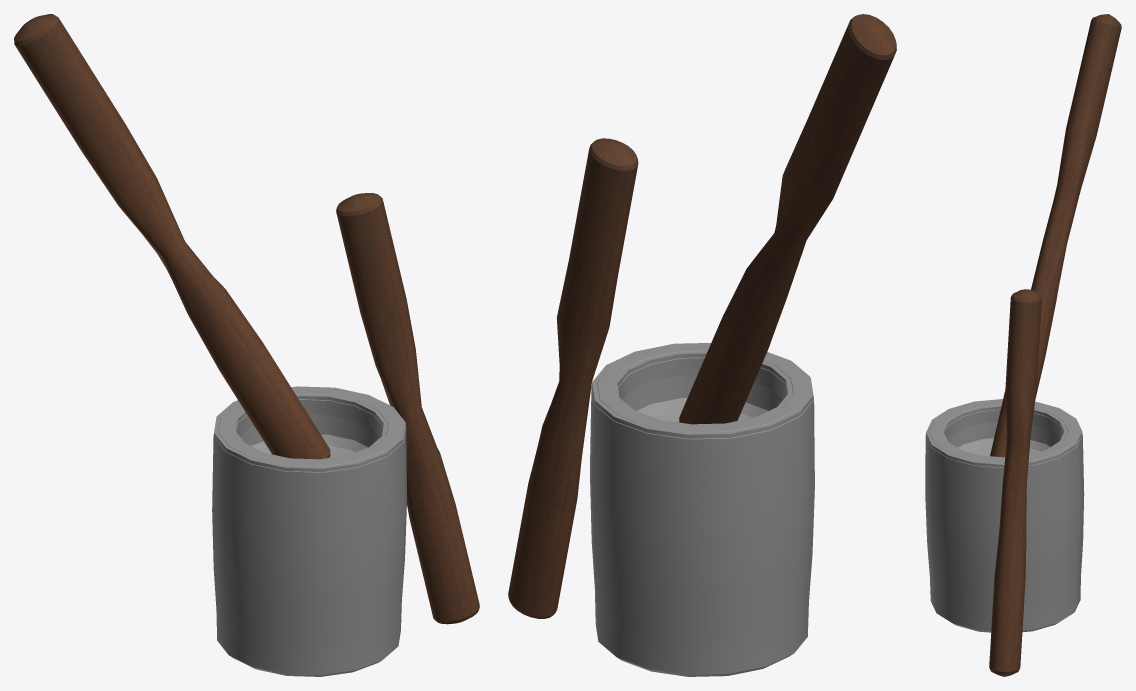
File: pandikdik.FBX
3 views of the same model, side by side, from view 1: azimuth 30°, elevation 25°; view 2: azimuth 150°, elevation 25°; view 3: azimuth 270°, elevation 25° (orthographic). The views are drawn at different scales.
Visible parts, largest first — view 1: Line001, Cylinder001, Cylinder002; view 2: Line001, Cylinder002, Cylinder001; view 3: Line001, Cylinder002, Cylinder001.
Part boxes in pixels (box(x1,y1,x2,y2)): Line001: box(212, 386, 406, 676); Cylinder001: box(14, 14, 330, 459); Cylinder002: box(336, 193, 479, 624); Line001: box(590, 343, 814, 676); Cylinder002: box(508, 138, 638, 618); Cylinder001: box(679, 14, 896, 424); Line001: box(925, 399, 1084, 632); Cylinder002: box(989, 289, 1041, 676); Cylinder001: box(990, 14, 1121, 457).
Bounding box in the file's own units: 50.67 × 78.78 × 26.87.
